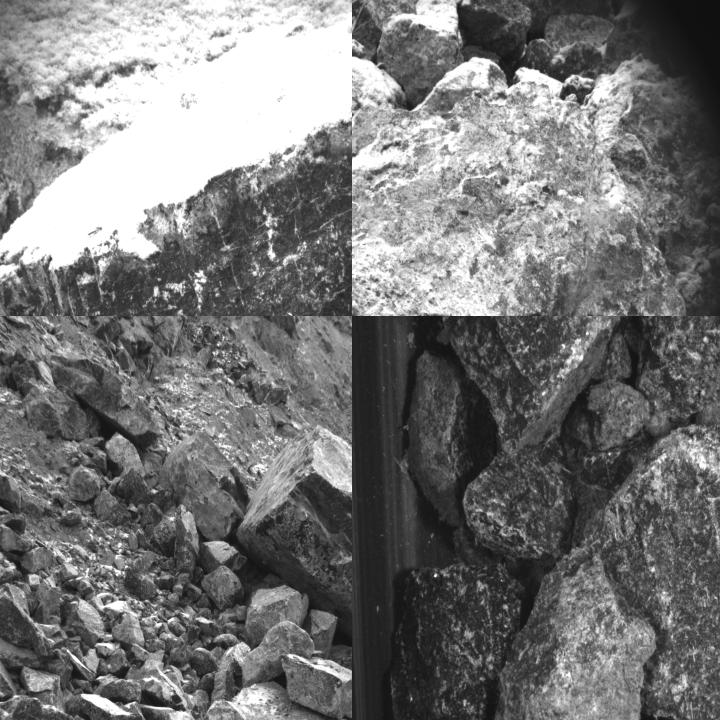stone: (0, 27, 351, 315), (352, 56, 704, 315), (588, 413, 719, 719), (417, 316, 648, 453), (495, 545, 654, 719), (233, 425, 351, 634), (389, 560, 527, 719), (406, 354, 491, 524), (464, 438, 579, 560), (51, 352, 164, 442), (160, 430, 245, 542), (643, 316, 719, 432), (567, 378, 647, 455), (352, 40, 409, 139), (277, 653, 351, 719), (452, 0, 533, 60), (240, 624, 313, 687), (242, 576, 308, 644), (237, 681, 351, 719), (25, 384, 90, 441), (0, 595, 56, 661), (0, 696, 113, 719), (62, 594, 104, 646), (174, 504, 200, 587), (70, 692, 148, 719), (137, 669, 188, 710), (19, 667, 65, 712), (103, 431, 146, 478), (200, 566, 243, 612), (304, 608, 339, 659), (112, 470, 153, 509), (199, 540, 247, 573), (95, 490, 131, 531), (153, 505, 178, 558), (68, 466, 102, 502), (95, 678, 142, 704), (112, 611, 144, 649), (0, 650, 20, 704), (34, 588, 62, 626), (199, 698, 248, 719), (20, 548, 53, 577)
